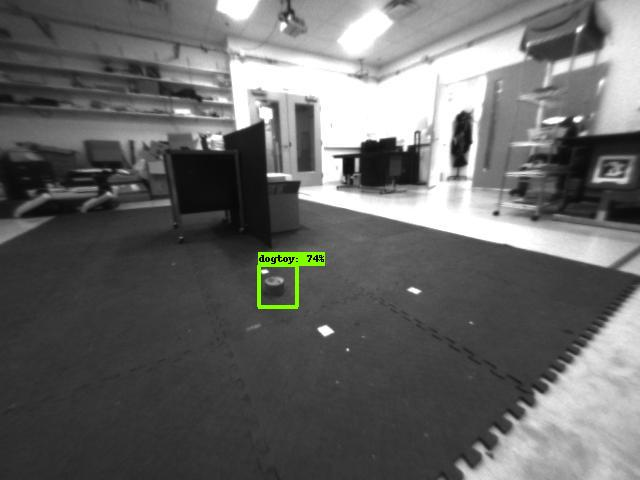dogtoy: (254, 266, 298, 306)
